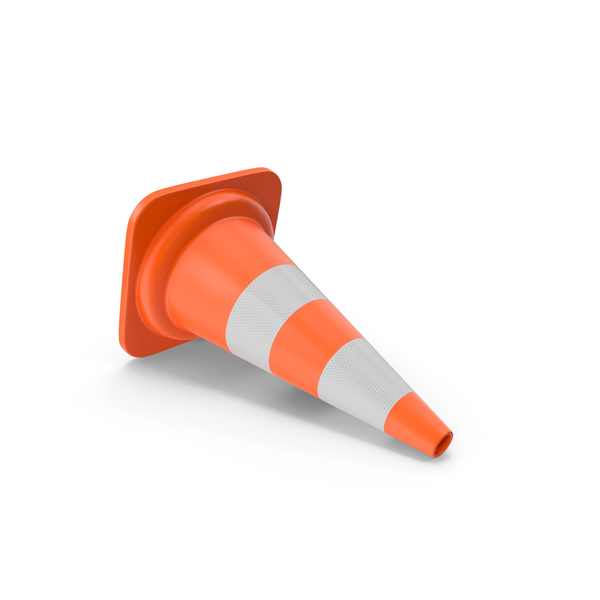cones: (92, 163, 457, 469)
